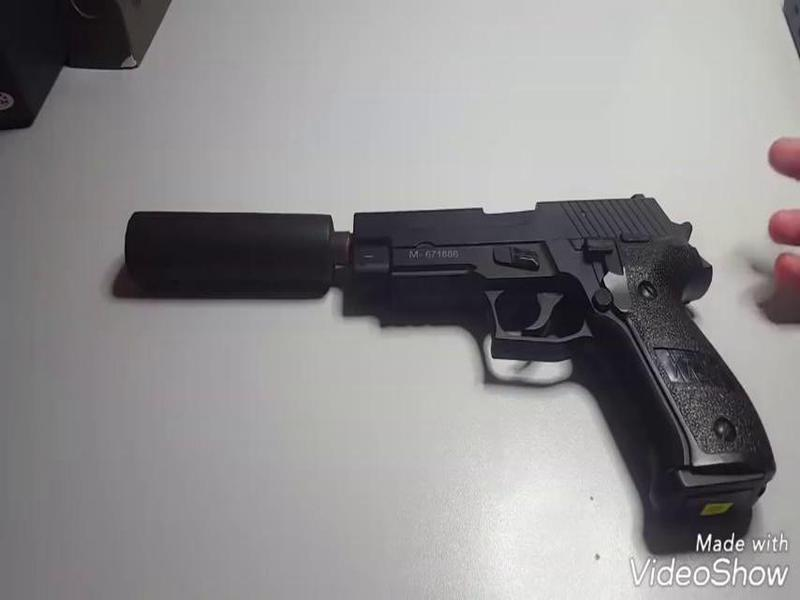Pistola: (340, 180, 779, 519)
